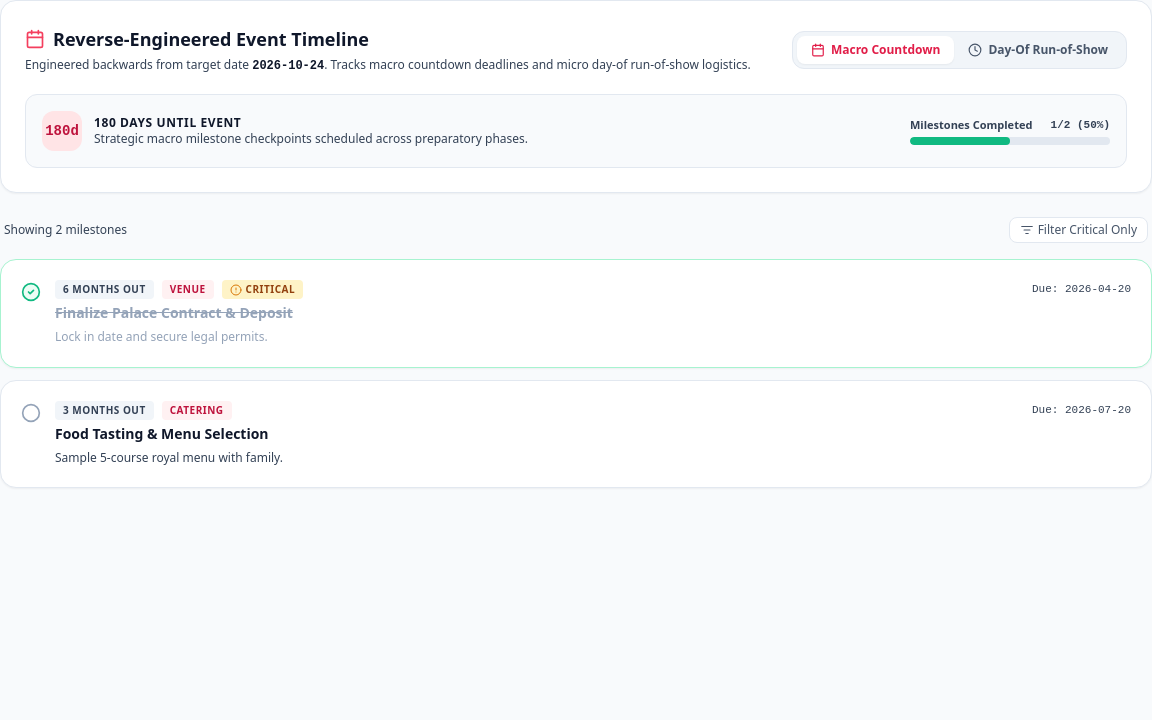
it: TimelineEngine component › switches between Macro Countdown and Day-Of Run-of-Show tabs
The image size is (1152, 720).
Click the tab "Day-Of Run-of-Show" at (1038, 50), box [954,36,1122,64]
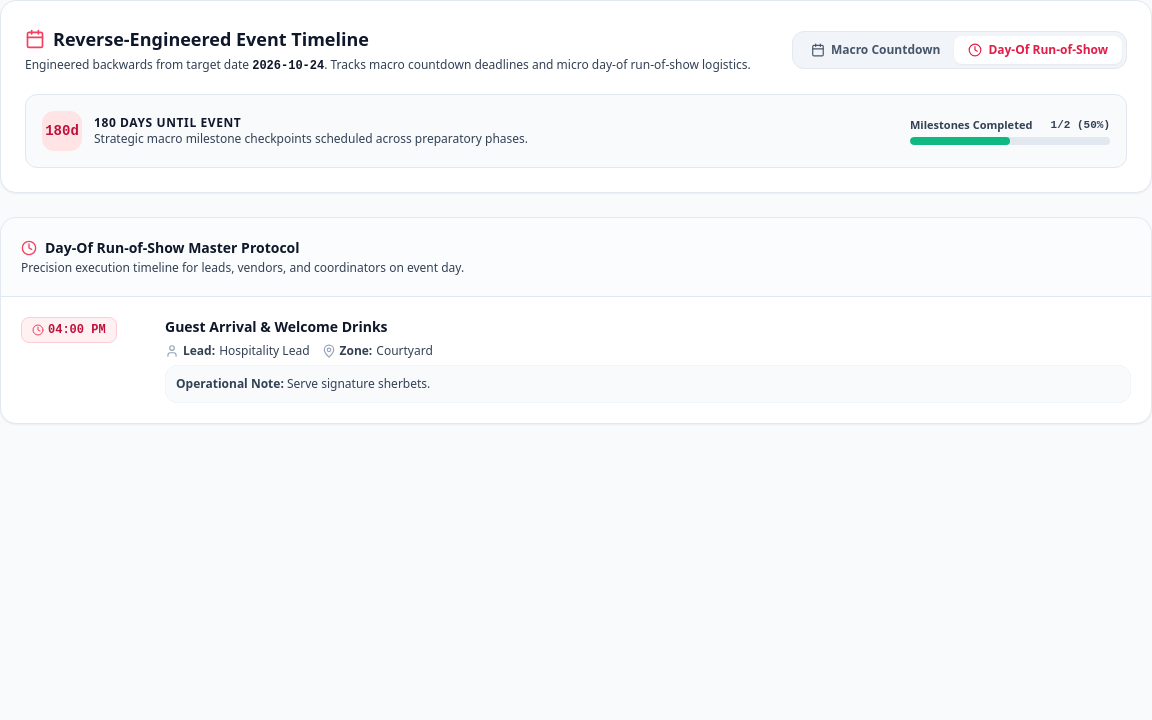
Expected: the heading "Guest Arrival & Welcome Drinks" is shown, [165,317,388,336]
Expected: the text "Hospitality Lead" is shown, [219,342,310,359]
